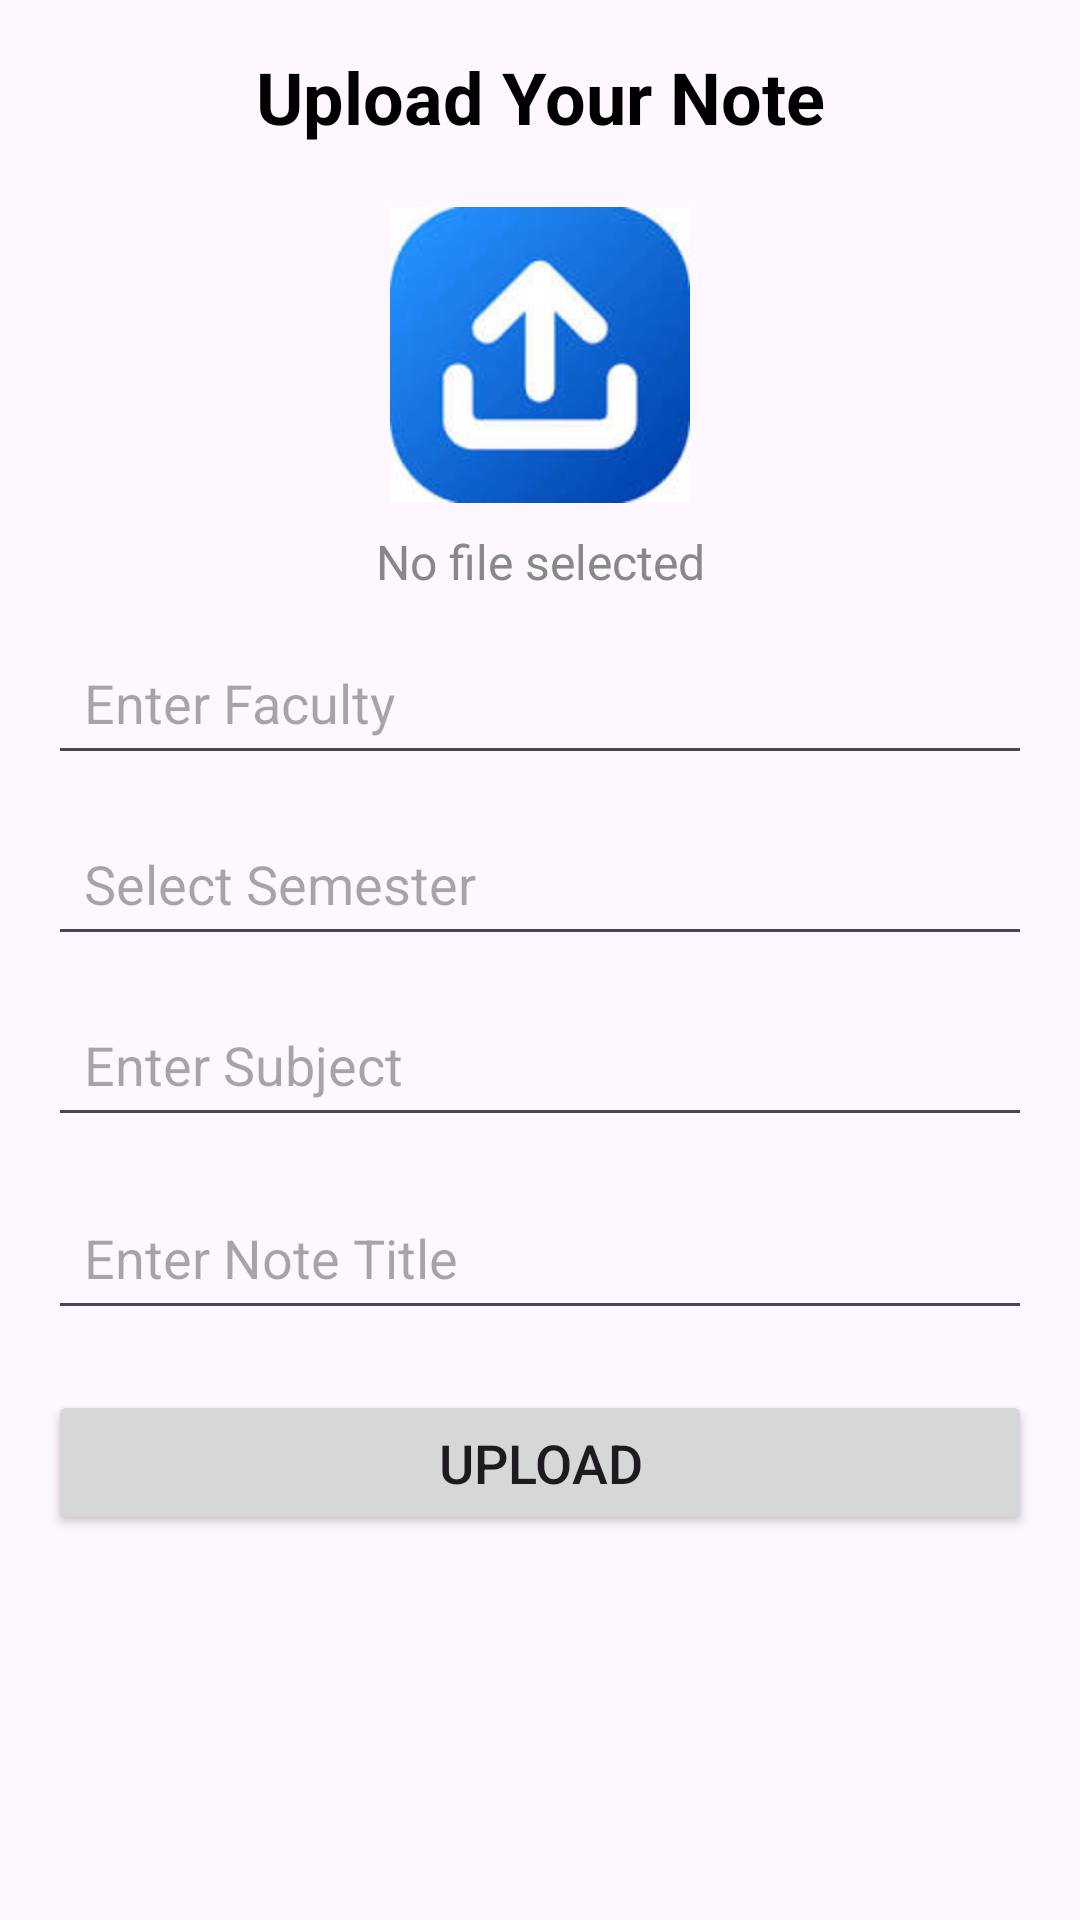

Icons on this 1080 × 1920 Android screen, each with its box as (x1=x1, y1=y1, x2=x2, y2=y2):
Select File: (x1=390, y1=207, x2=690, y2=503)
